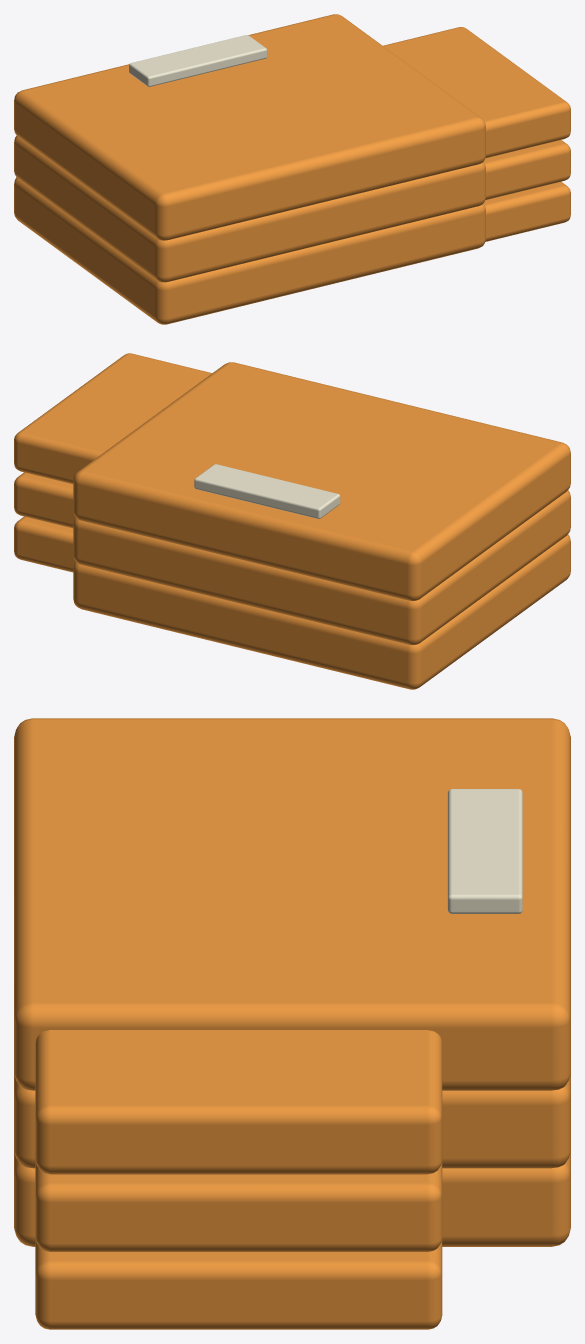
The model's file is prison-complex-builder-uniform-pile-af58e13c__25706.glb.
3 renders of one model, top to bottom at view 1: azimuth 30°, elevation 25°; view 2: azimuth 150°, elevation 25°; view 3: azimuth 270°, elevation 25°, orthographic. The views are drawn at different scales.
Parts seen in each view (by area): view 1: uniform-pile; view 2: uniform-pile; view 3: uniform-pile.
Boxes of the visible parts, x1,y1,x2,y2 form: uniform-pile: (14,14,570,324); uniform-pile: (14,353,570,689); uniform-pile: (14,718,570,1329).
Bounding box in the file's own units: 0.42 × 0.135 × 0.26.
